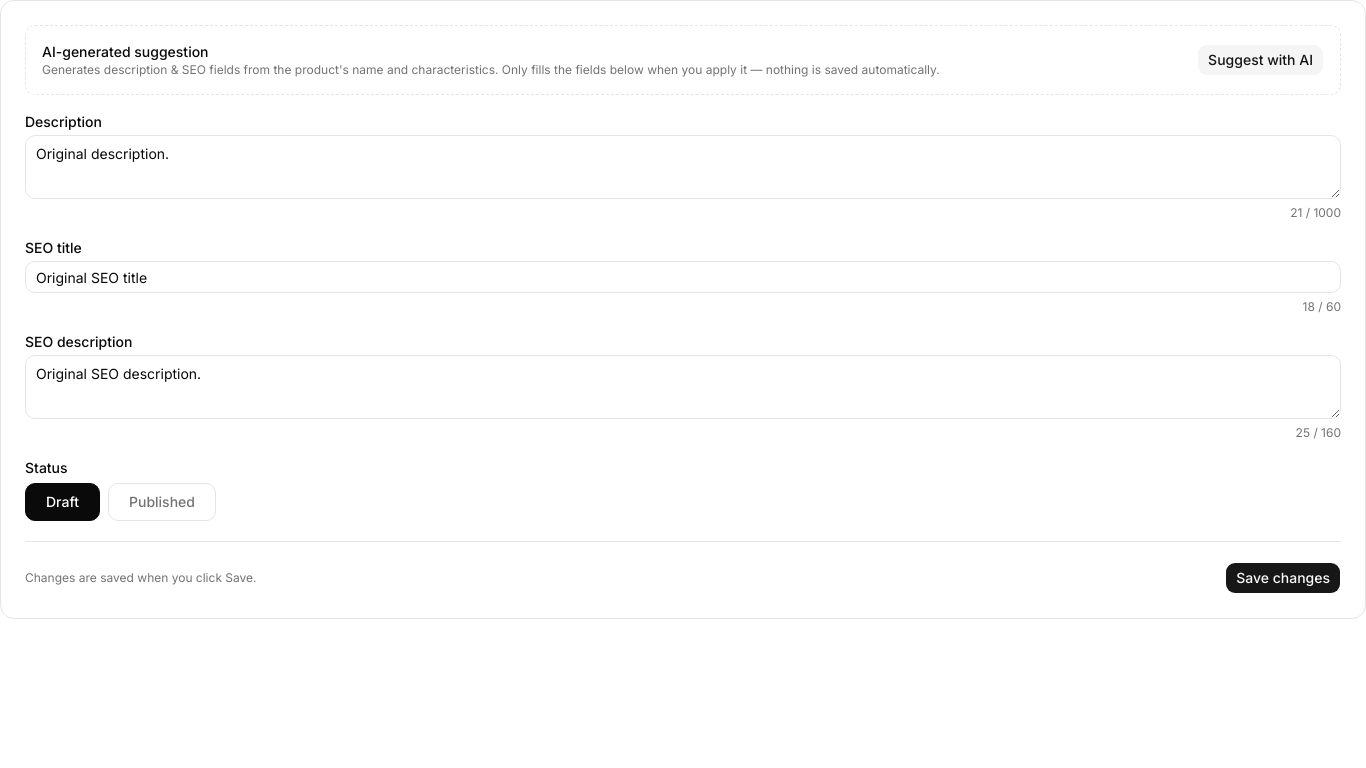
Scenario: ProductEditorForm suggestion flow › shows an error and leaves the editor untouched when generation fails
What coordinates should you click on to do the following:
click the button "Suggest with AI"
I would click on:
 (1261, 60)
Its box is top-left (1197, 44), bottom-right (1324, 76).
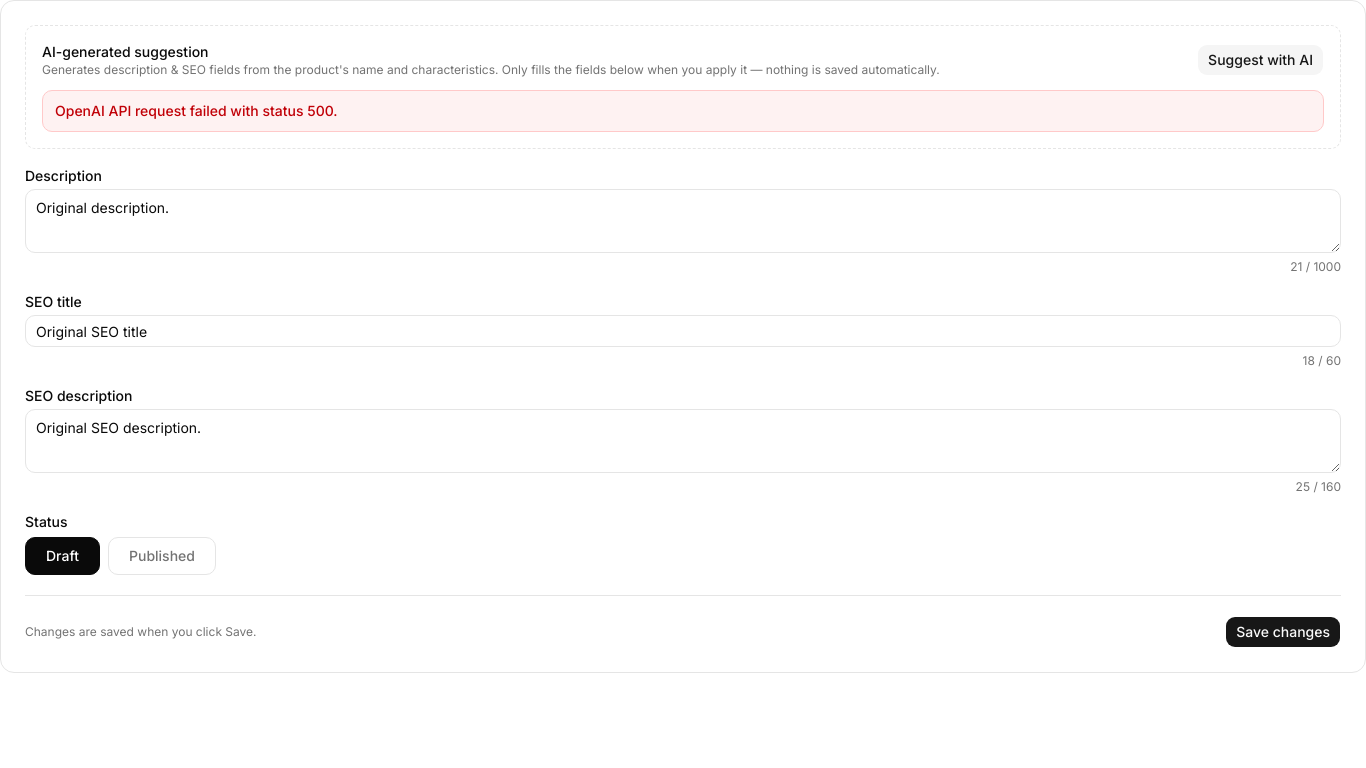
Check: the text box labelled "Description" holds "Original description.", box top-left (25, 189), bottom-right (1341, 253)
Check: the text "OpenAI API request failed with status 500." is shown, box top-left (42, 90), bottom-right (1324, 132)
